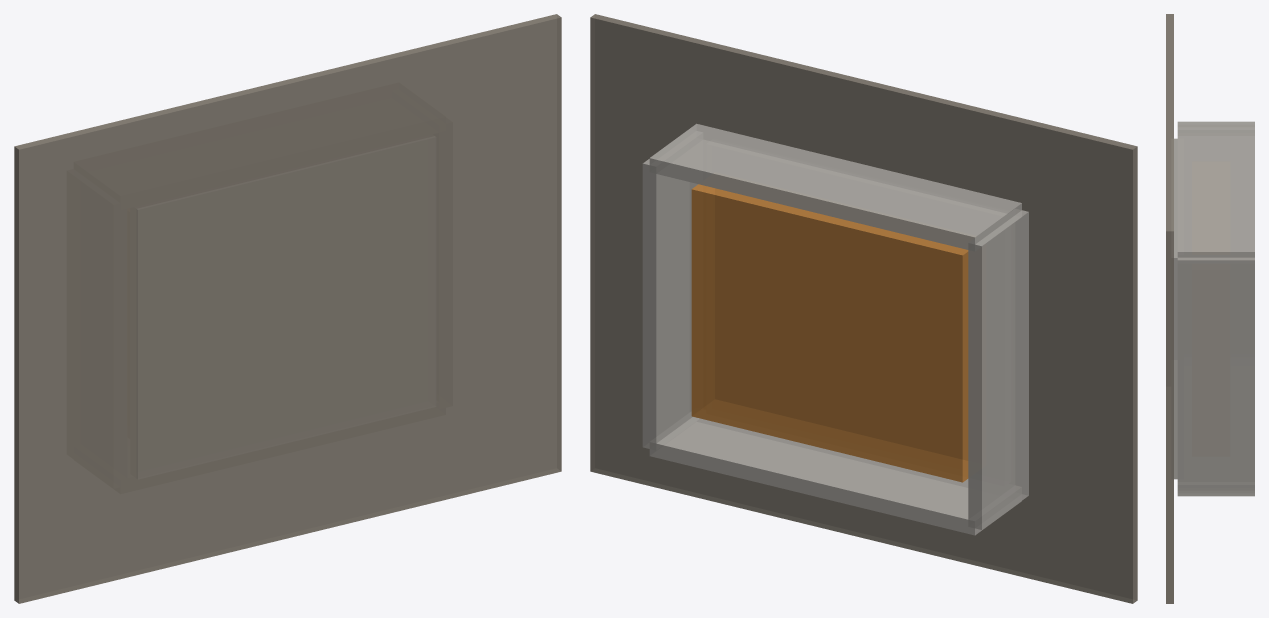
The model's file is cooling_pit.glb.
The picture shows the model from 3 angles, left to right: view 1: azimuth 30°, elevation 25°; view 2: azimuth 150°, elevation 25°; view 3: azimuth 270°, elevation 25°; orthographic projection. The views are drawn at different scales.
Visible parts, largest first — view 1: Ground, PitFloor; view 2: Ground, HotSlag, WallS, WallW, WallN, WallE; view 3: WallE, WallS, Ground, PitFloor, WallN, WallW.
Part boxes in pixels (left/top/right/bottom): Ground: left=14, top=14, right=561, bottom=603; PitFloor: left=137, top=136, right=435, bottom=478; Ground: left=590, top=14, right=1137, bottom=603; HotSlag: left=691, top=184, right=968, bottom=482; WallS: left=649, top=123, right=1021, bottom=251; WallW: left=968, top=209, right=1028, bottom=529; WallN: left=649, top=412, right=1021, bottom=535; WallE: left=642, top=131, right=702, bottom=450; WallE: left=1177, top=255, right=1254, bottom=493; WallS: left=1177, top=121, right=1254, bottom=262; Ground: left=1166, top=14, right=1173, bottom=603; PitFloor: left=1172, top=138, right=1183, bottom=479; WallN: left=1177, top=482, right=1254, bottom=496; WallW: left=1178, top=128, right=1254, bottom=135.
Bounding box in the file's own units: 20 × 16 × 3.45.
